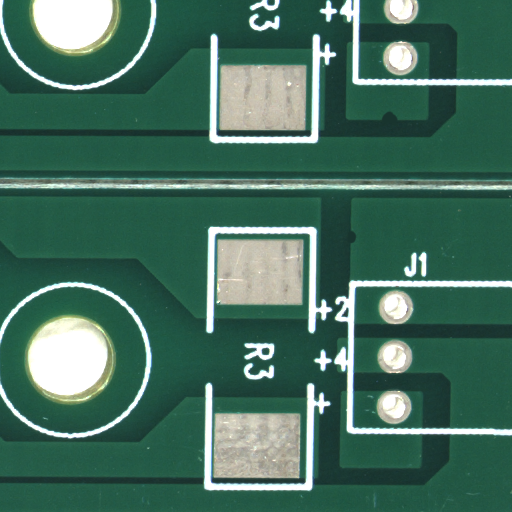Mouse_bite: (389, 116, 403, 127), (353, 237, 361, 252)
